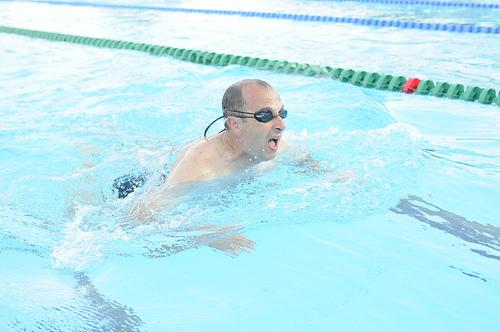human: (93, 74, 316, 262)
